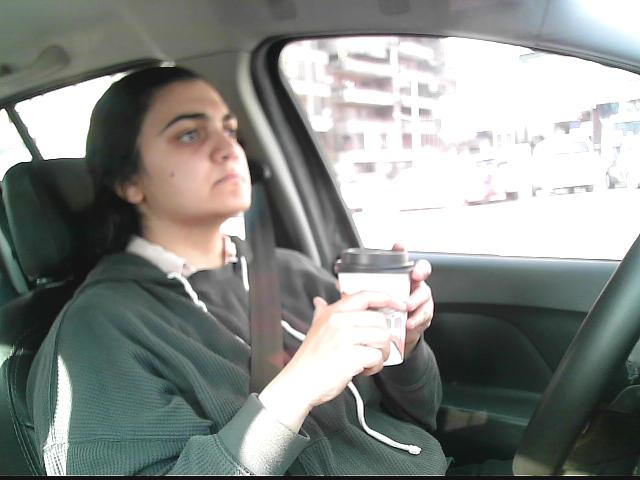Drinking: (328, 238, 421, 381)
